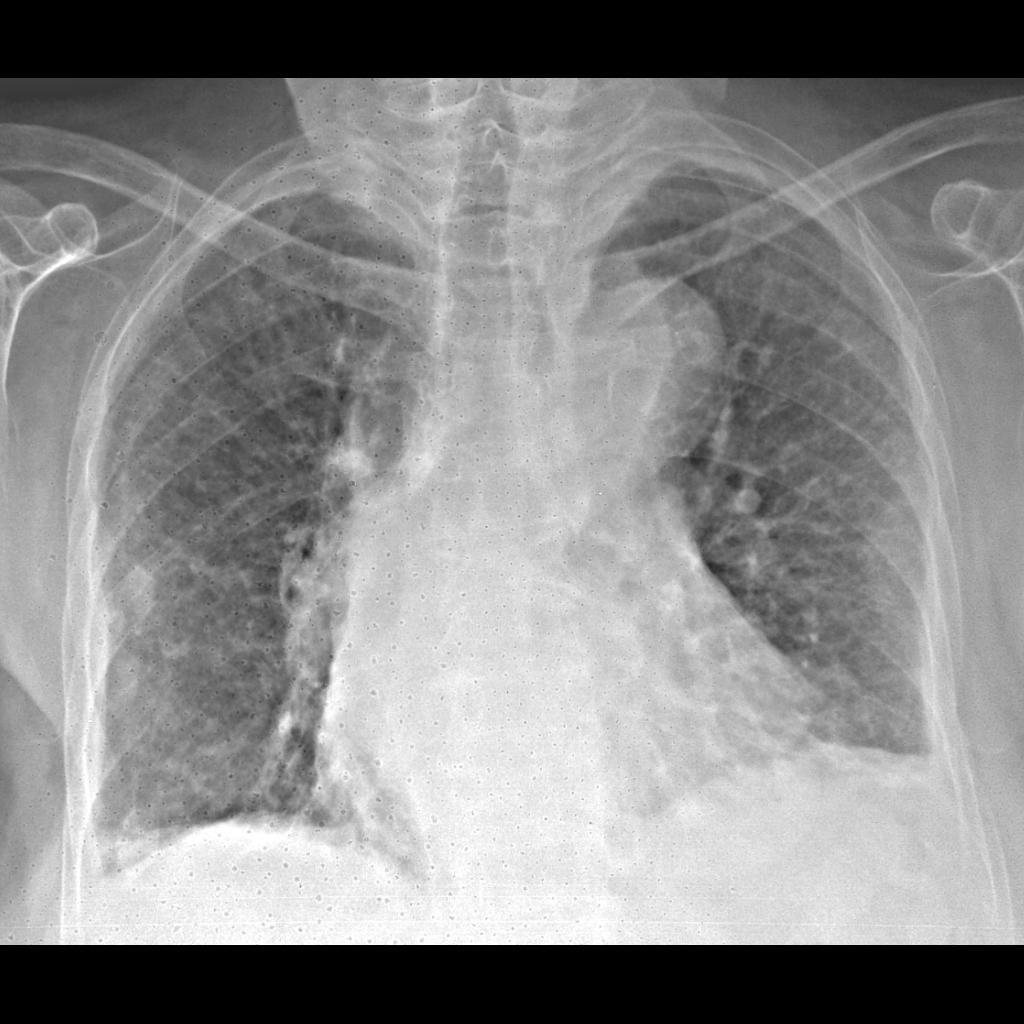Nodule: (117, 557, 164, 631), (105, 649, 143, 703)
